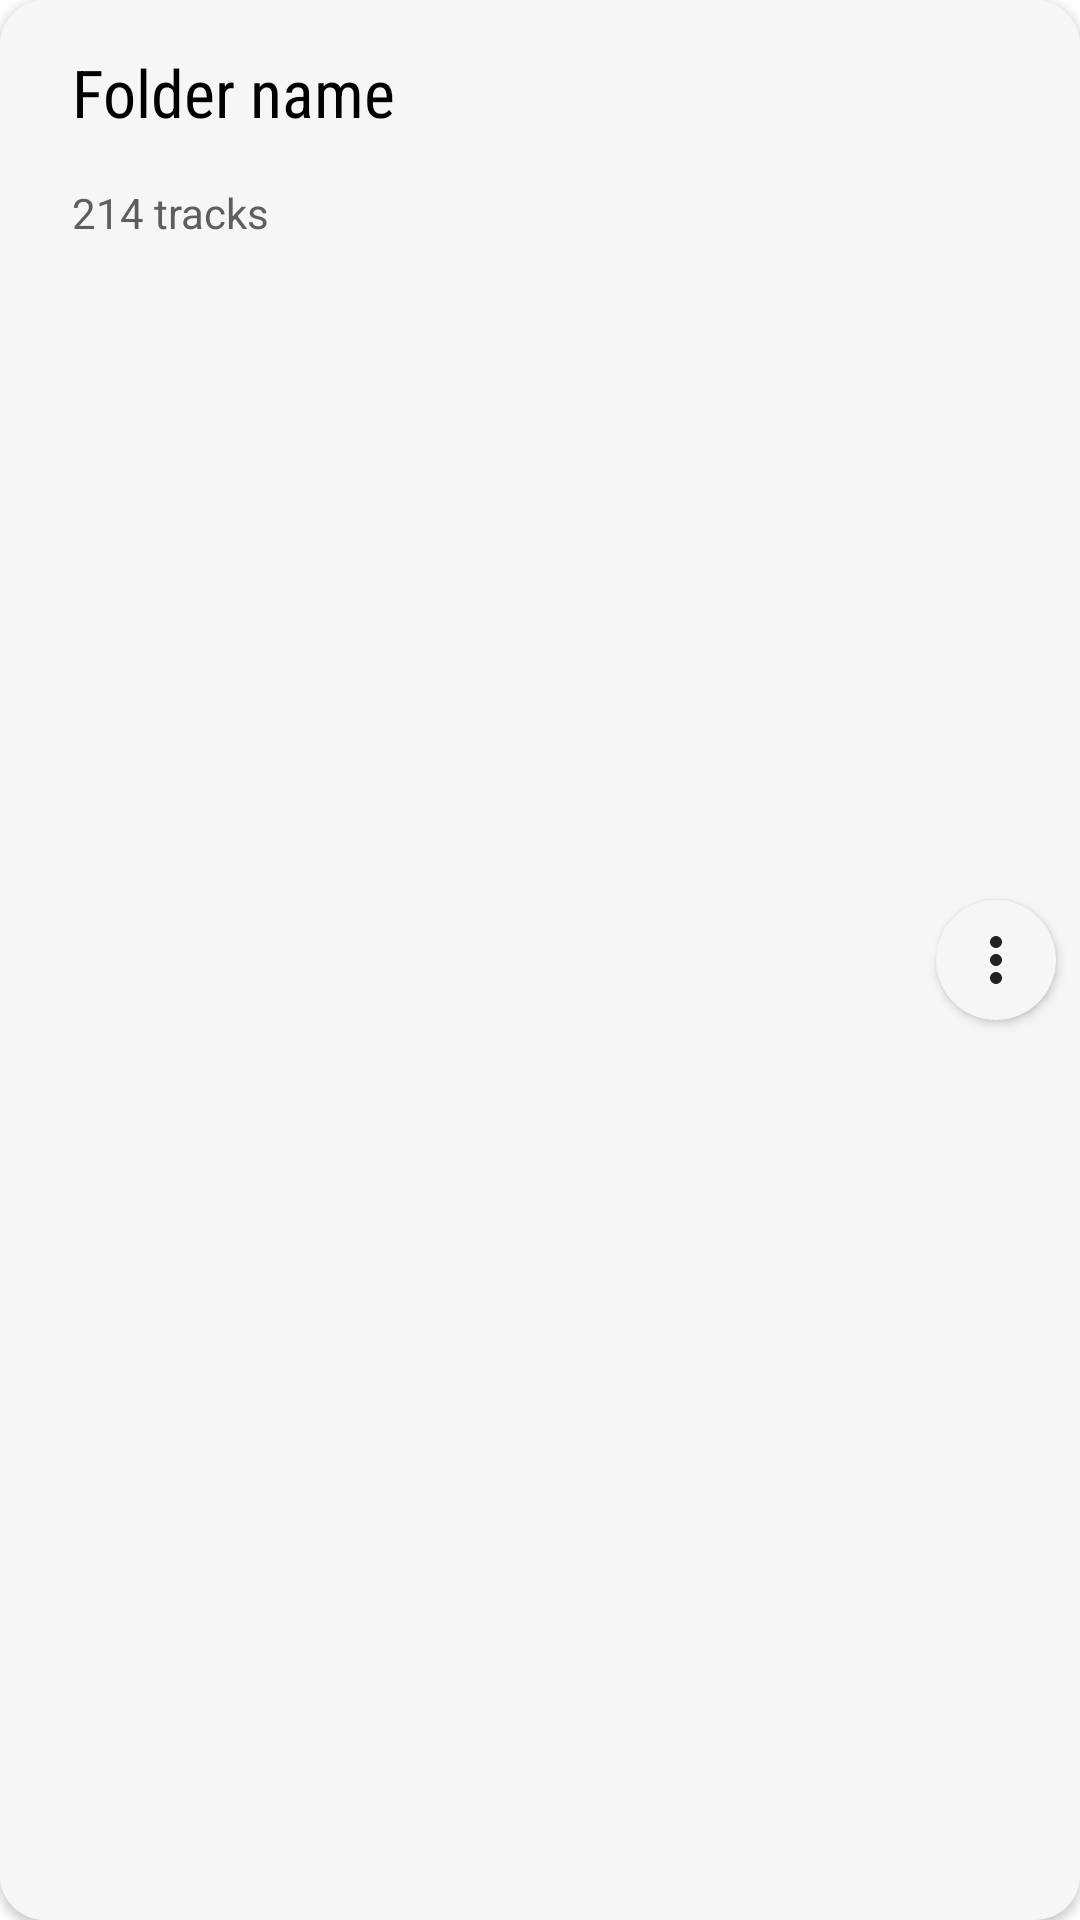

Icon bounding boxes for this 1080 x 1920 phone screenshot, format (x1, y1, x2, y2):
menu: (990, 936, 1002, 984)
